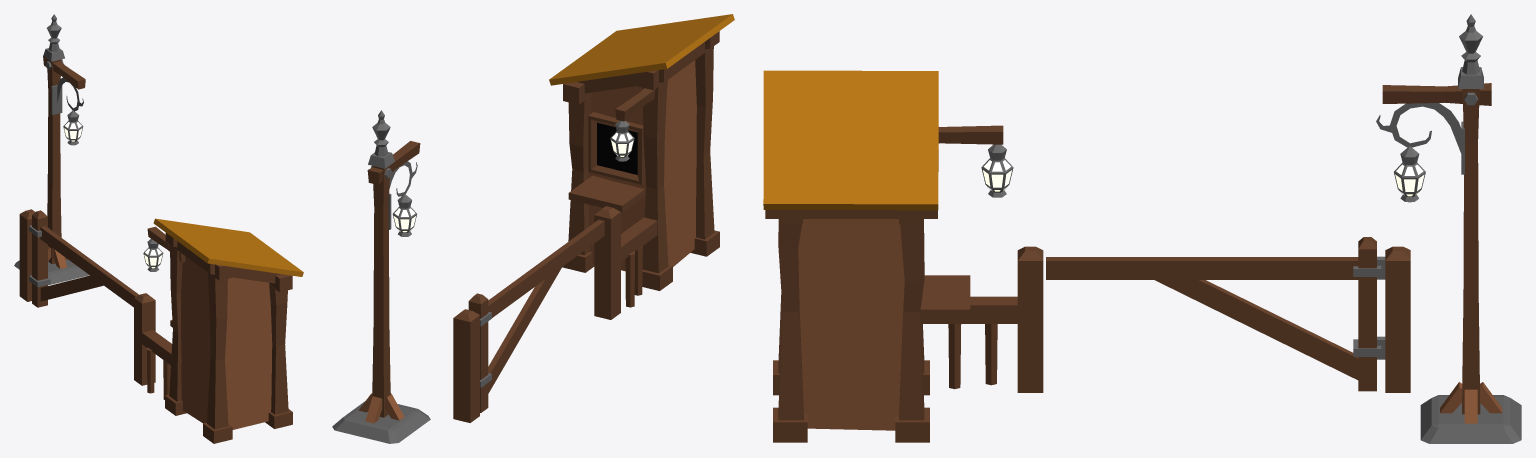
The model's file is hütte.fbx.
3 views of the same model, side by side, from view 1: azimuth 30°, elevation 25°; view 2: azimuth 150°, elevation 25°; view 3: azimuth 270°, elevation 25° (orthographic). The views are drawn at different scales.
Parts seen in each view (by area): view 1: Cube.004; view 2: Cube.004; view 3: Cube.004.
Part boxes in pixels (bbox=[...]): Cube.004: bbox=[14, 14, 303, 443]; Cube.004: bbox=[332, 14, 734, 443]; Cube.004: bbox=[763, 14, 1521, 443].
Size of the model in its own units: 106 by 270 by 450.
